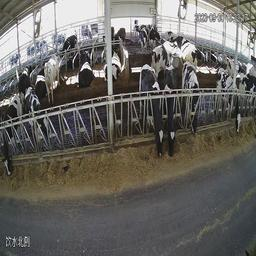cow: (139, 61, 168, 157), (214, 65, 242, 135), (0, 91, 22, 177), (24, 85, 52, 151), (162, 64, 181, 157), (180, 60, 200, 136), (151, 40, 181, 80), (44, 51, 62, 107), (238, 66, 256, 119), (175, 35, 198, 76), (17, 63, 32, 108), (77, 51, 94, 90), (103, 49, 122, 83), (61, 31, 78, 64), (34, 64, 48, 102), (131, 23, 148, 44), (139, 26, 150, 57), (229, 58, 243, 81), (148, 27, 159, 53), (113, 26, 126, 47), (84, 47, 97, 67), (68, 52, 80, 70), (217, 50, 231, 65), (163, 28, 176, 44)
